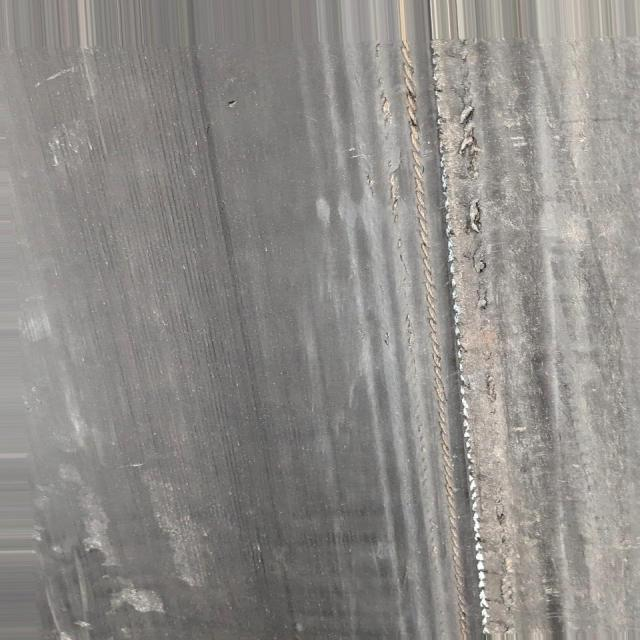impact damage: (389, 40, 512, 640)
